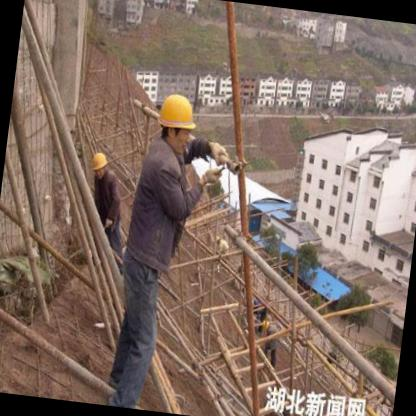helmet: (151, 87, 203, 159), (90, 148, 113, 184)
